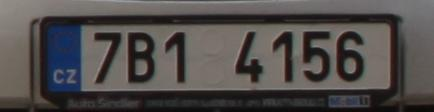1: (273, 32, 294, 82), (166, 32, 185, 84)
4: (235, 32, 263, 82)
5: (303, 30, 331, 81)
6: (338, 31, 363, 81)
7: (94, 32, 120, 83)
B: (128, 32, 155, 82)
